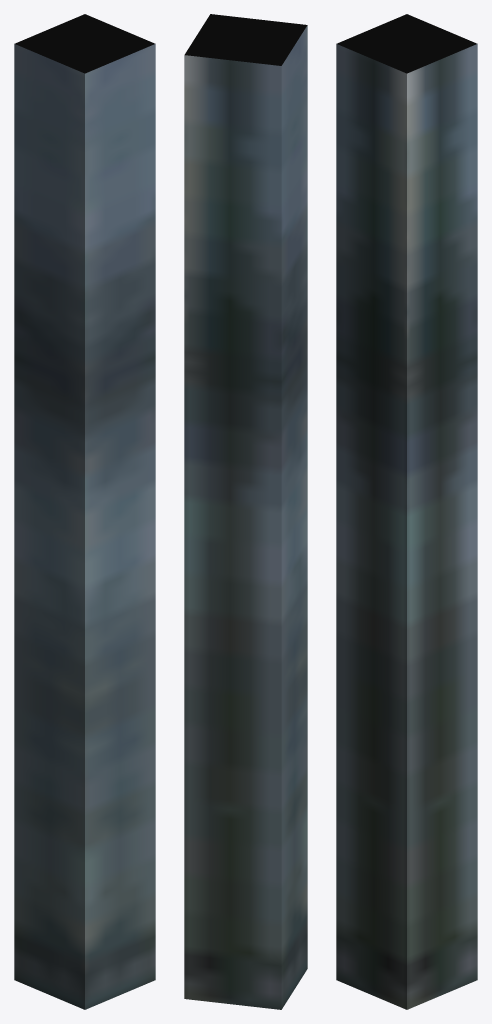
File: Shared - Ground Vehicles - Big Rig - Damage State 18 - CVBigRig_d18.glb
The picture shows the model from 3 angles, left to right: view 1: azimuth 90°, elevation 25°; view 2: azimuth 210°, elevation 25°; view 3: azimuth 270°, elevation 25°; orthographic projection.
Parts seen in each view (by area): view 1: CVBIGRIG_D18; view 2: CVBIGRIG_D18; view 3: CVBIGRIG_D18.
Boxes of the visible parts, <box> form: CVBIGRIG_D18: <box>14,14,155,1009</box>; CVBIGRIG_D18: <box>184,14,307,1009</box>; CVBIGRIG_D18: <box>336,14,477,1009</box>.
Size of the model in its own units: 0.778 by 5.69 by 0.778.
Materials: 1 (1 with a texture image).
